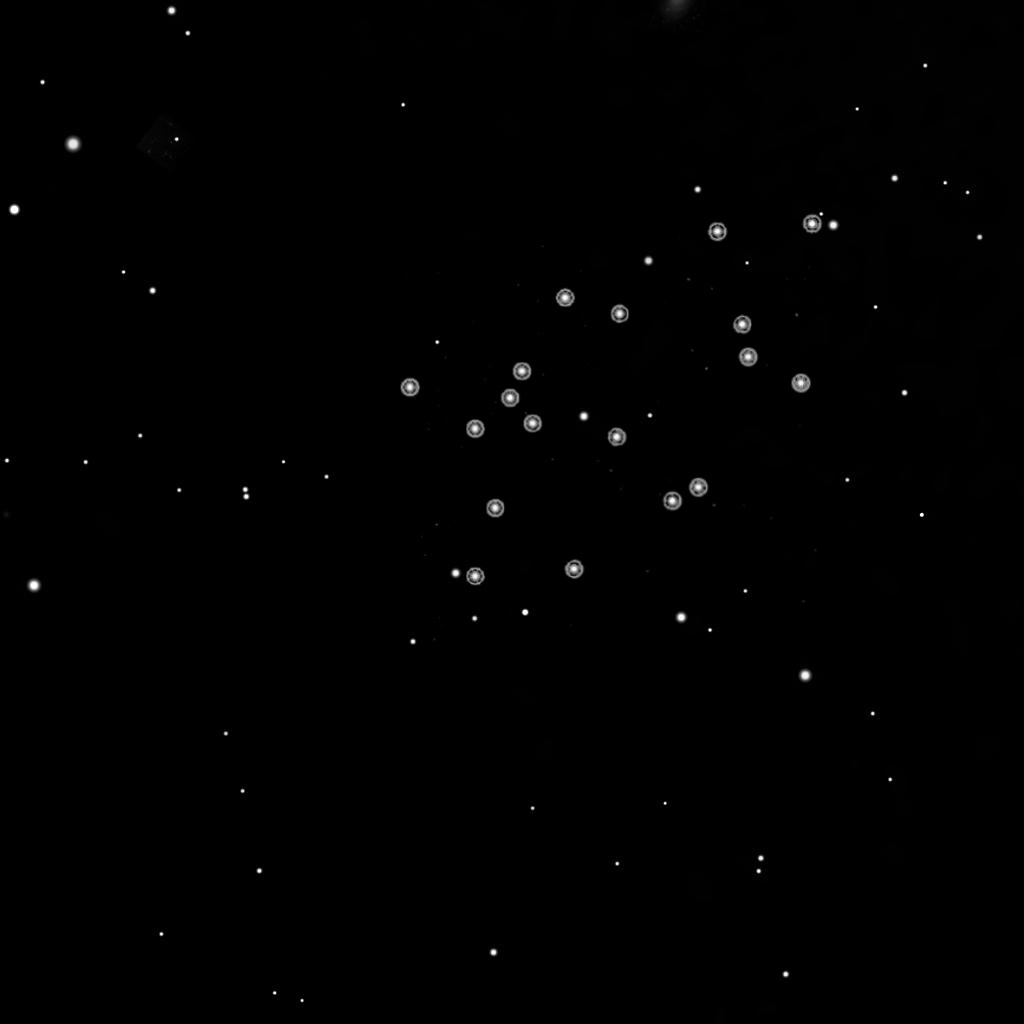canis_major: (456, 287, 632, 446)
